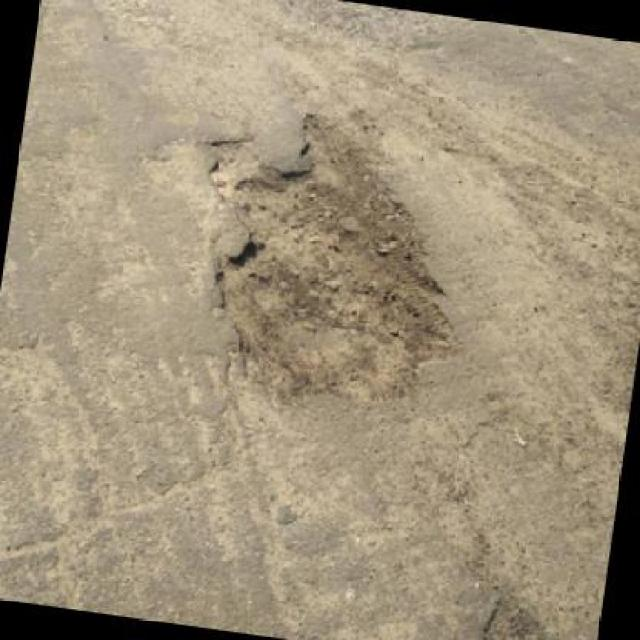pothole: (170, 91, 496, 424), (466, 586, 585, 639)
